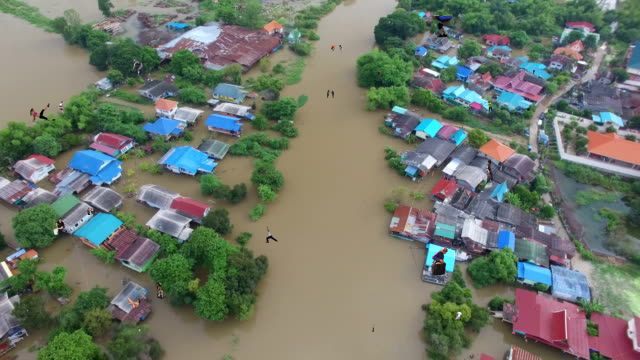Human: (430, 247, 448, 275), (30, 103, 56, 122), (431, 16, 453, 38), (265, 226, 278, 243), (155, 282, 168, 299), (53, 218, 65, 235), (131, 59, 143, 76), (486, 159, 494, 183), (127, 296, 141, 309), (58, 101, 67, 114), (331, 45, 343, 53), (486, 101, 493, 112), (455, 311, 462, 320), (327, 90, 334, 98), (87, 208, 94, 215), (372, 324, 375, 332), (378, 71, 381, 78), (534, 308, 539, 312), (389, 21, 393, 25), (138, 328, 141, 332), (45, 155, 48, 159), (279, 40, 282, 44), (533, 70, 535, 75), (540, 26, 542, 31), (257, 12, 259, 17), (527, 108, 530, 111)
